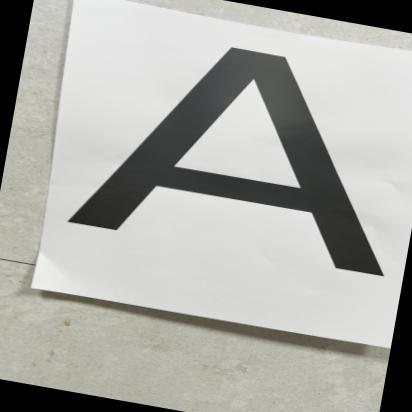seat: (51, 17, 412, 306)
